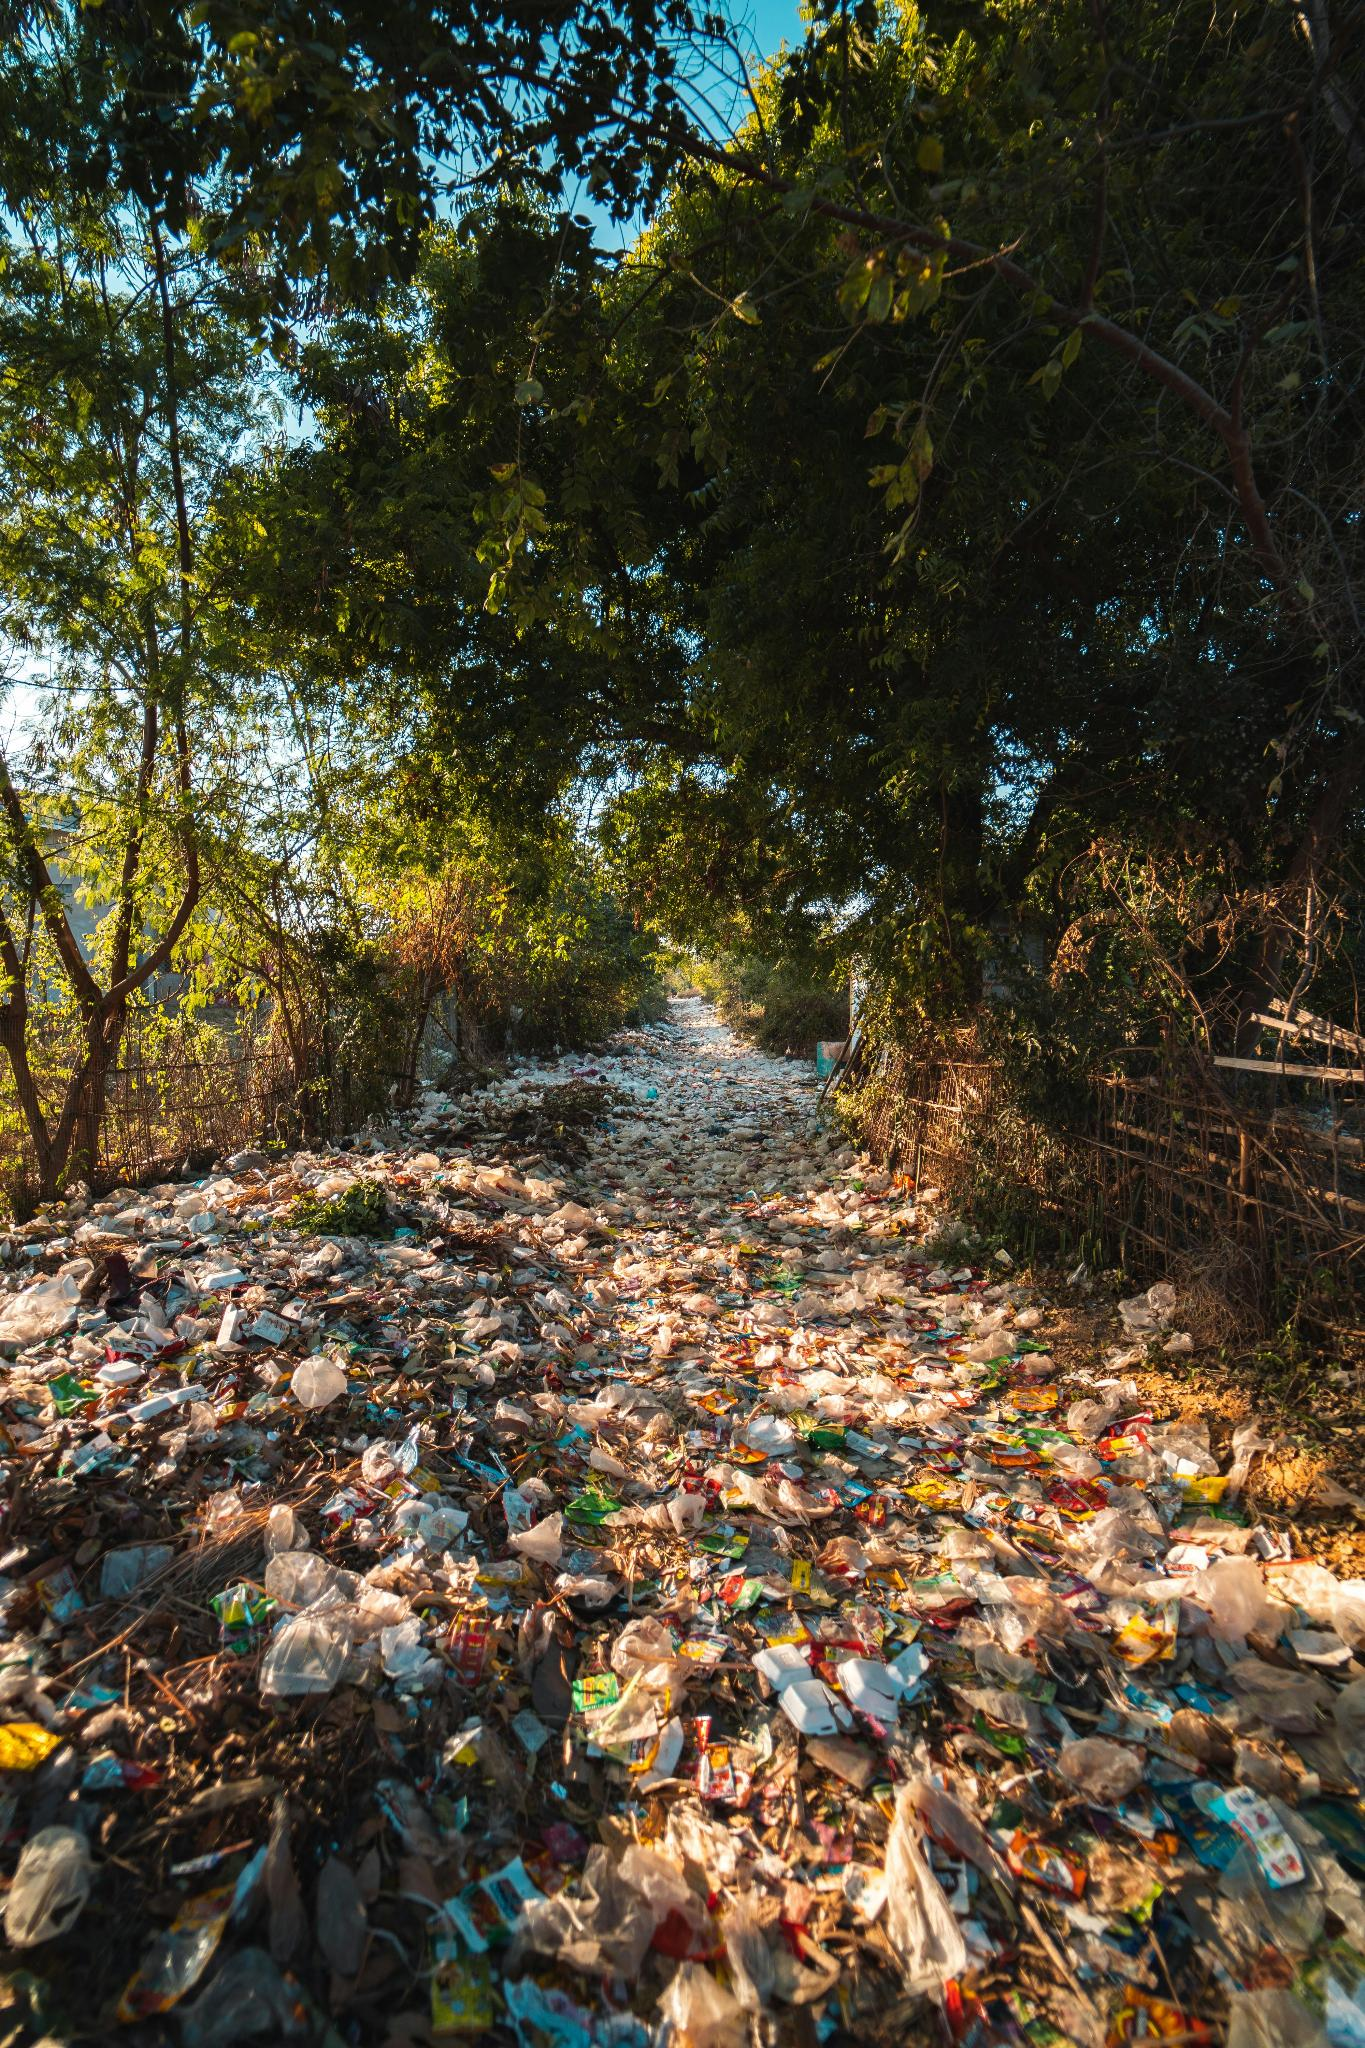Trash: (11, 863, 1365, 2048)
